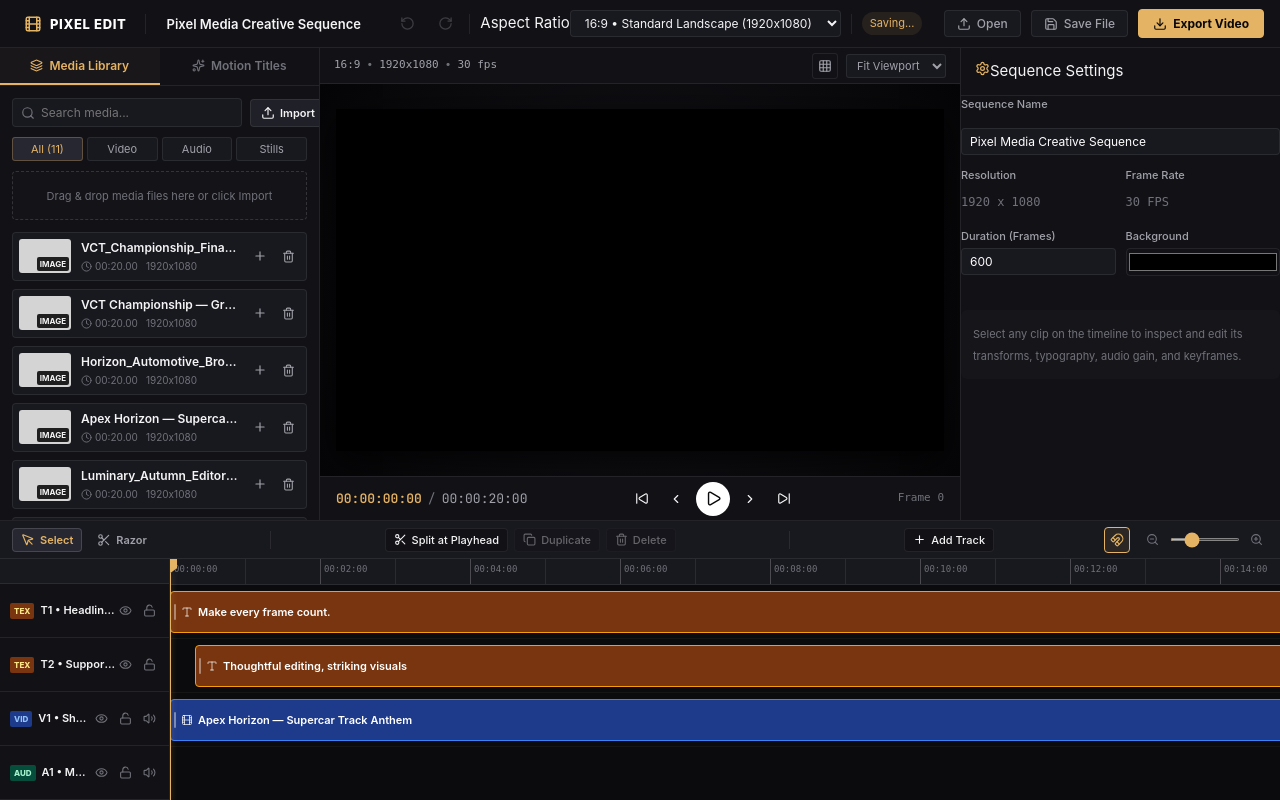
Video & Motion Graphics Editor Core Engine › Editor Workspace UI & Interactions › opens export modal and displays format and quality options
The image size is (1280, 800).
What coordinates should you click on to do the following:
click the button "Export Video"
I would click on:
 (1201, 24)
Its box is [1138, 9, 1264, 38].
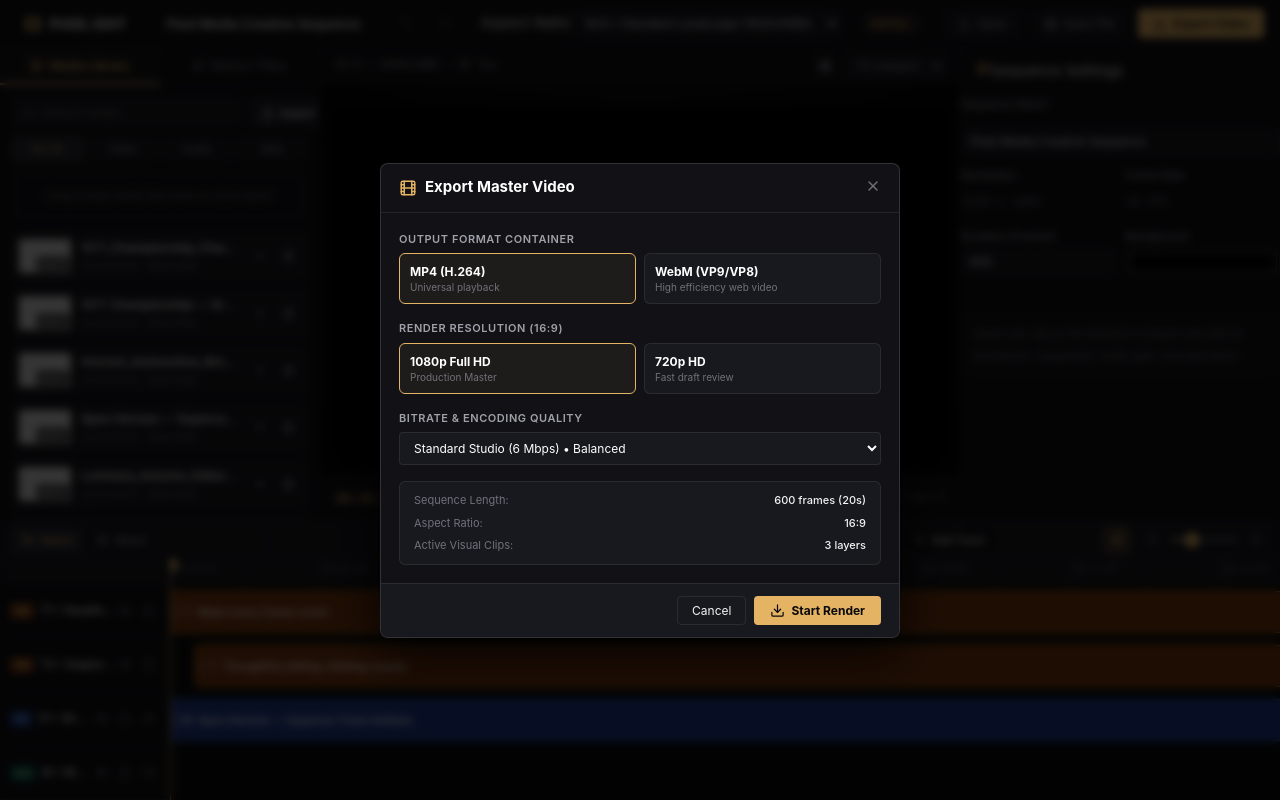
Result: the heading "Export Master Video" is shown at [425, 178, 575, 197]
Result: the text "WebM (VP9/VP8)" is shown at [655, 264, 758, 279]
Result: the text "1080p Full HD" is shown at [410, 354, 491, 368]
